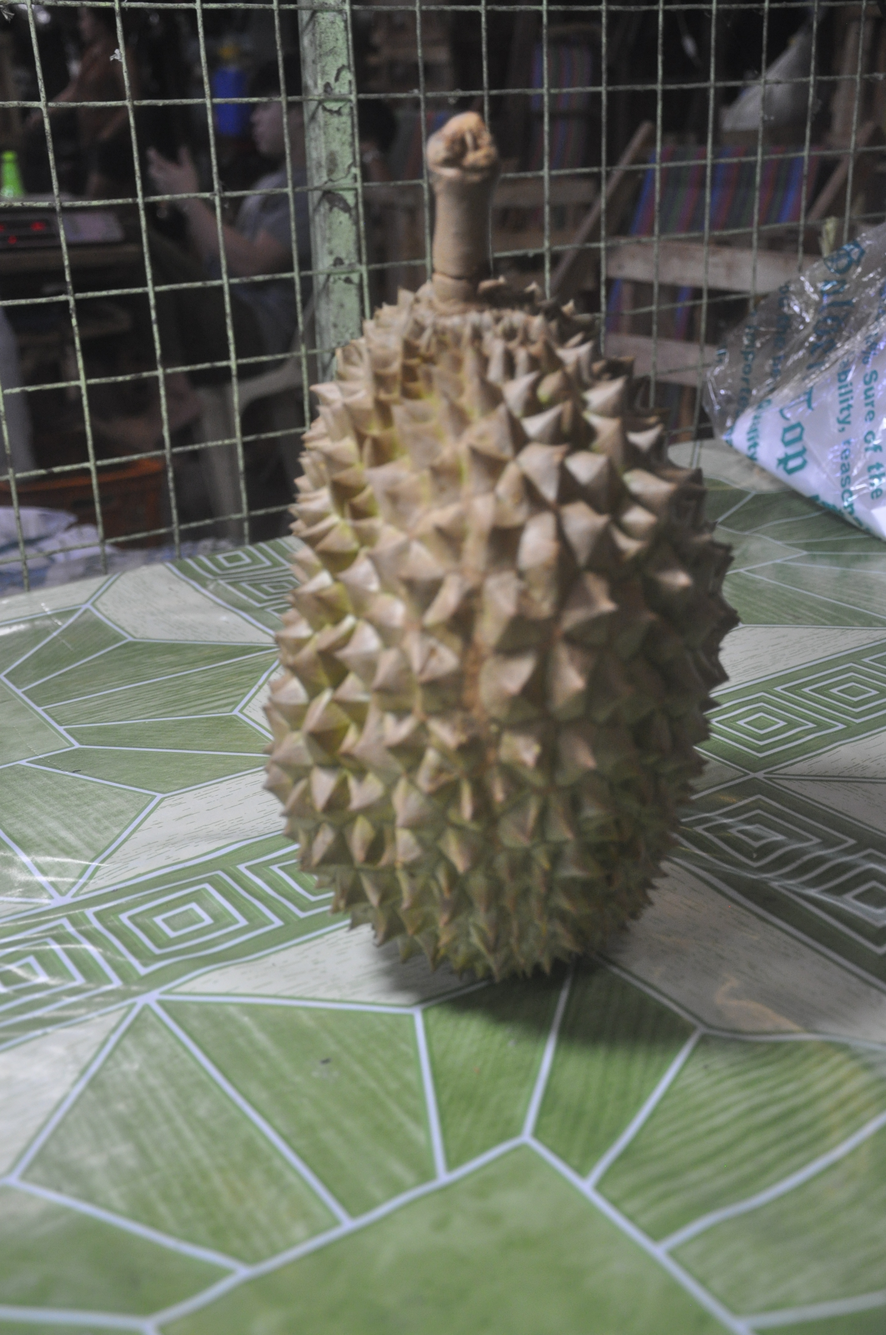mature: (267, 113, 736, 979)
